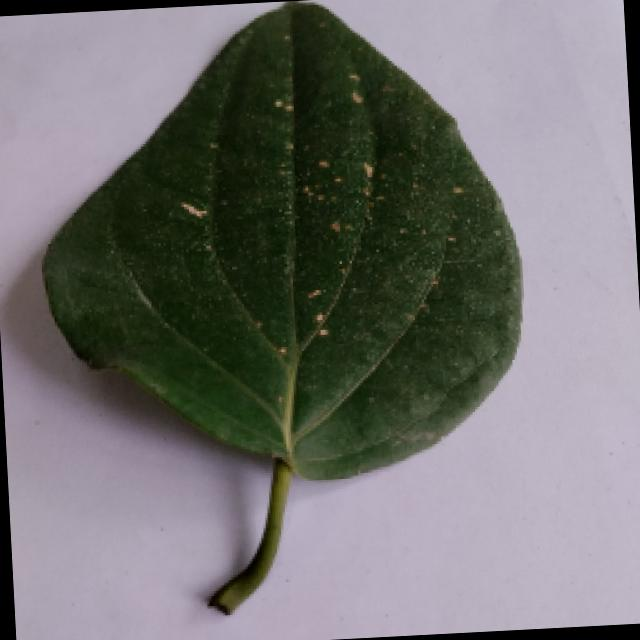pollu-disease: (26, 0, 532, 617)
